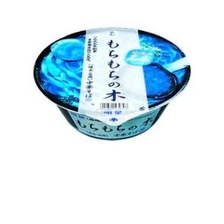paper_cup: (26, 20, 195, 147)
